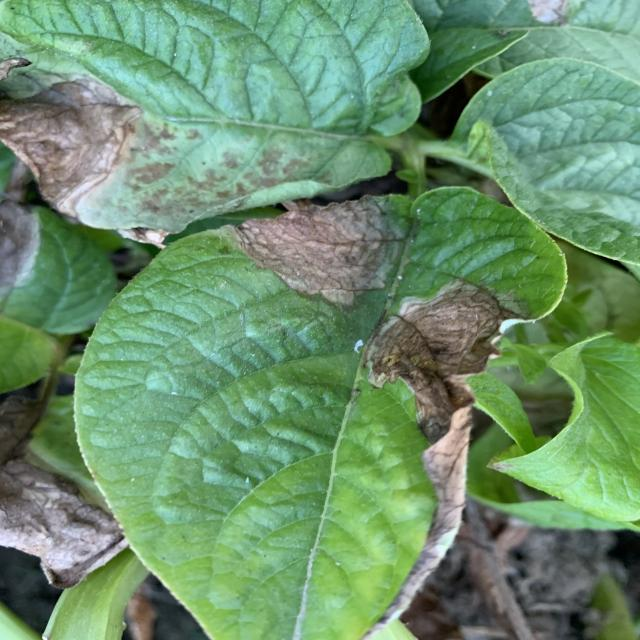lateblight: (363, 280, 518, 640), (0, 79, 142, 218), (234, 192, 407, 302)
